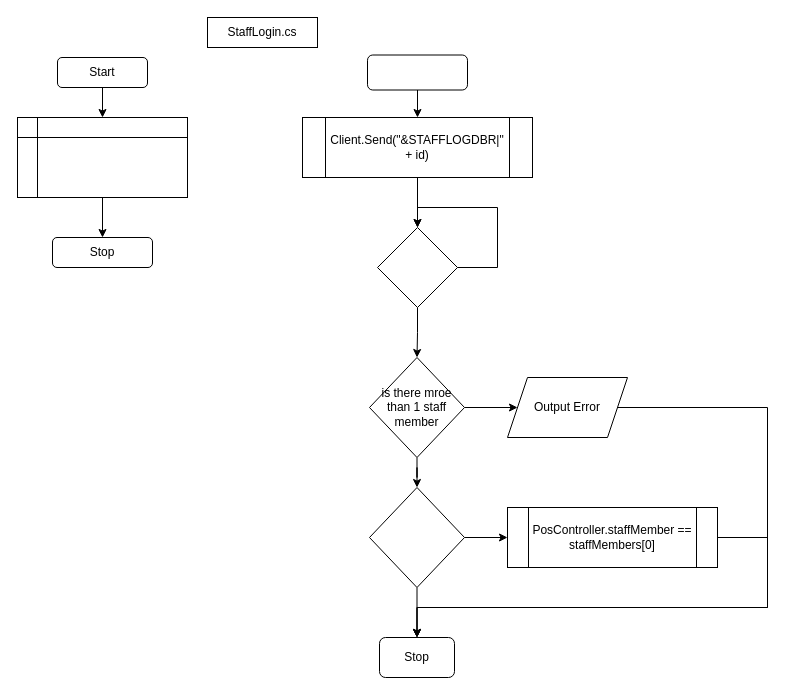
This 793x695 diagram has some shape labels left out. Each missing label, with the centre of its shape:
"Array staffMembers Bool dataRecieved" belongs at point (102, 157).
"Is dataRecieved == True" belongs at point (417, 267).
"Is the staff member id still valid" belongs at point (416, 537).
"LookUp(id)" belongs at point (417, 72).
